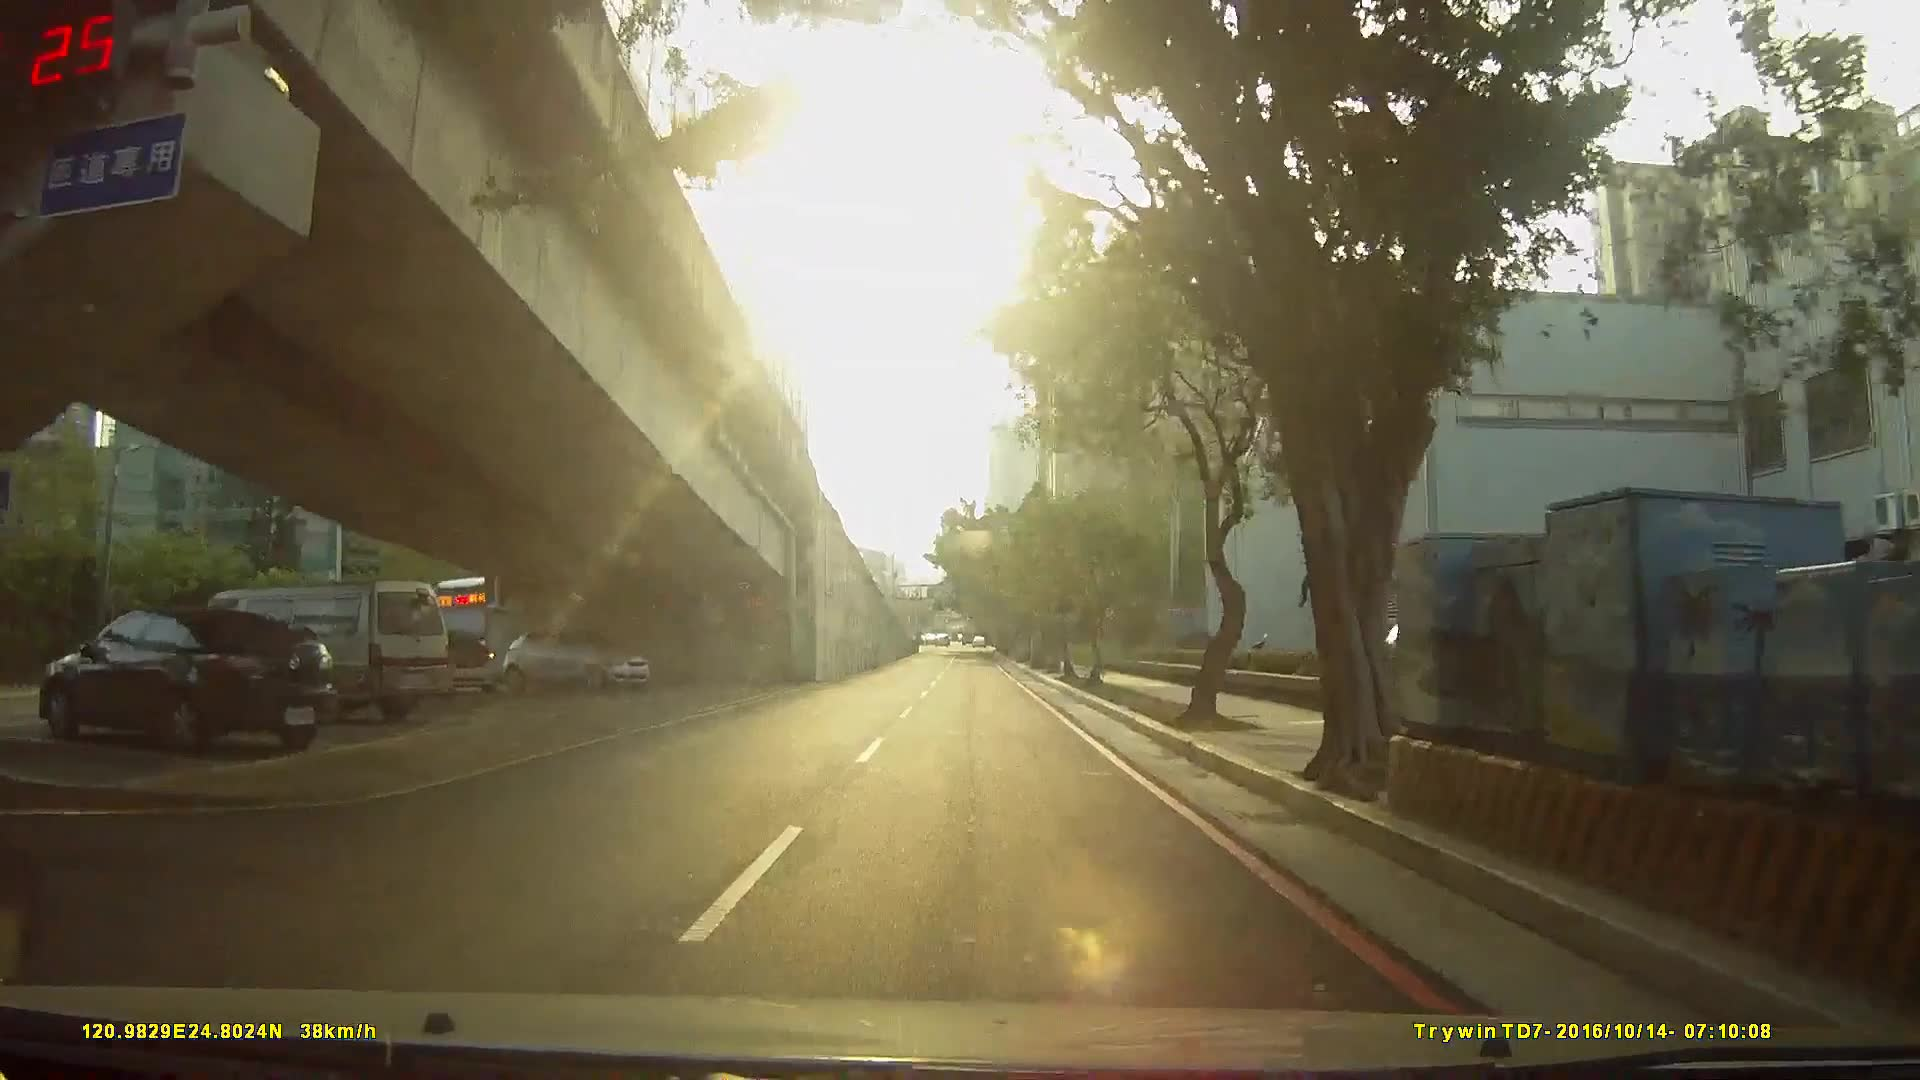vehicle: (28, 585, 343, 752), (169, 578, 440, 723), (495, 622, 649, 692), (396, 622, 495, 694)
